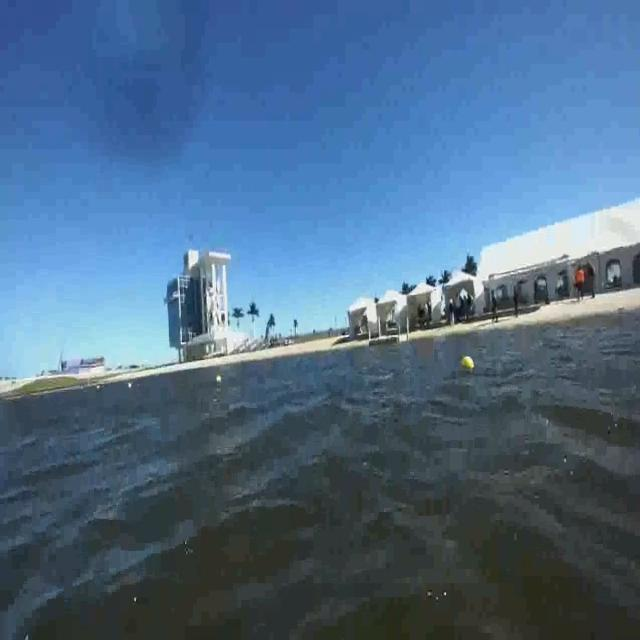yellow-buoy: (461, 356, 474, 369)
